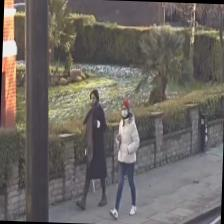person: (74, 88, 110, 210), (108, 98, 140, 219)
